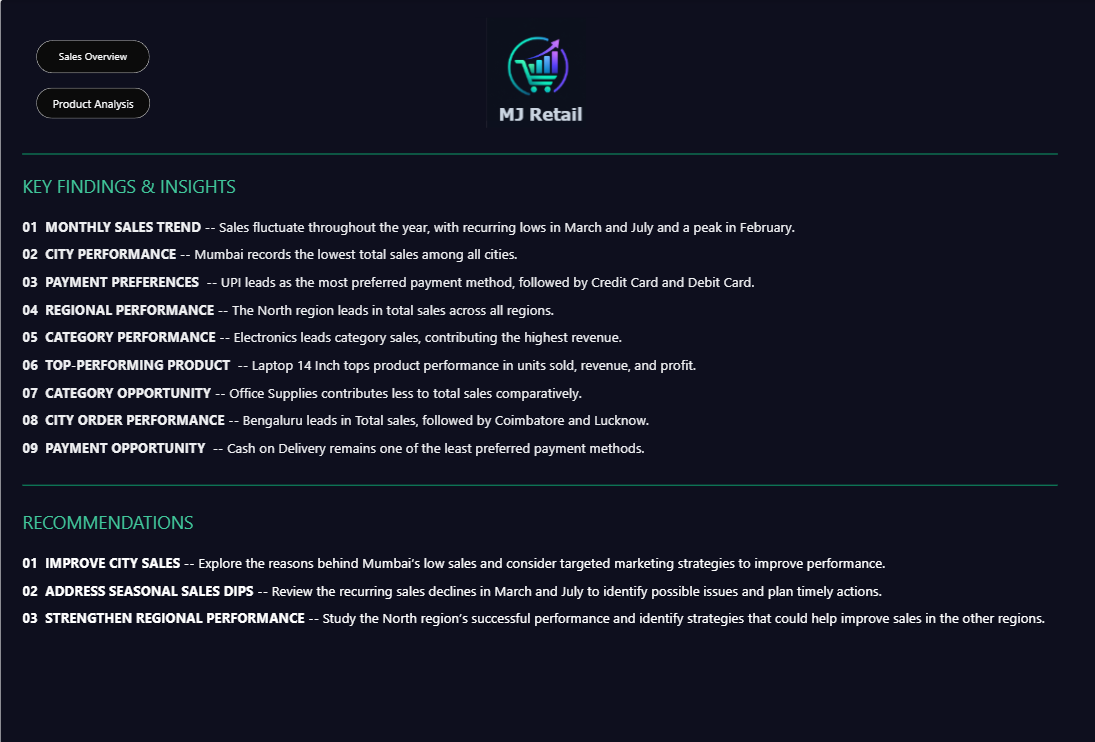

The page's visual inventory and layout, read from the dashboard file:
{"tool":"powerbi","page":{"name":"Insights","canvas":[1966,1336],"ordinal":2},"visuals":[{"type":"textbox","box":[0,0,1965.5,1336.5],"z":0},{"type":"pageNavigator","box":[64.9,73.9,203.4,59.5],"z":1000},{"type":"pageNavigator","box":[63.8,158.4,204.8,55],"z":2000},{"type":"image","box":[850.7,33.6,219.4,197],"z":2001},{"type":"textbox","box":[40.3,313.4,1907.3,530.6],"z":2002},{"type":"shape","box":[40.3,261.9,1853.6,31.3],"z":2003},{"type":"shape","box":[40.3,844,1853.6,53.7],"z":2004},{"type":"textbox","box":[40.3,915.6,1878.2,385],"z":2005}]}

Visuals, with their boxes in screenshot pixels (x1, y1, x2, y2), scaled from the page's 1966x1336 canvas onto the 1095x742 screenshot:
textbox: (x1=0, y1=0, x2=1094, y2=741)
pageNavigator: (x1=36, y1=41, x2=149, y2=74)
pageNavigator: (x1=36, y1=88, x2=150, y2=119)
image: (x1=474, y1=19, x2=596, y2=128)
textbox: (x1=22, y1=174, x2=1085, y2=469)
shape: (x1=22, y1=145, x2=1055, y2=163)
shape: (x1=22, y1=469, x2=1055, y2=499)
textbox: (x1=22, y1=509, x2=1069, y2=722)
